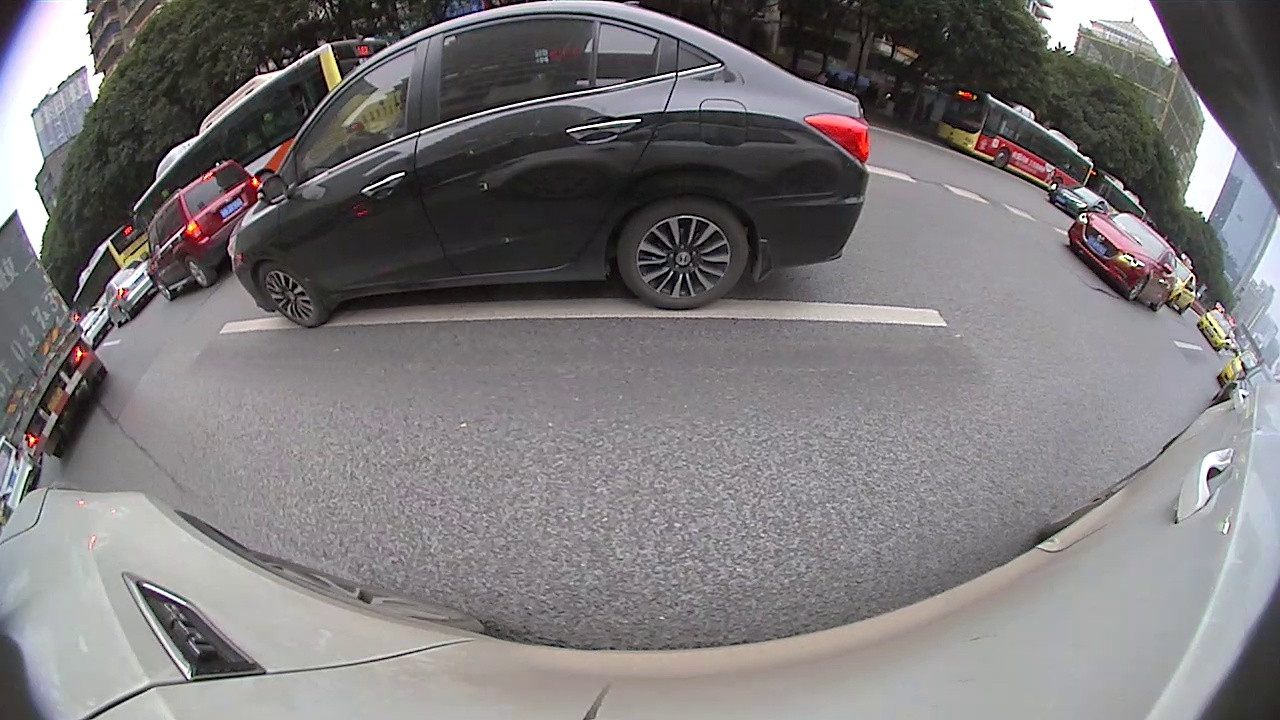bus: (132, 37, 389, 231), (944, 87, 1092, 191), (70, 222, 154, 323), (1088, 159, 1149, 222)
car: (230, 1, 869, 333), (148, 158, 261, 299), (1073, 209, 1179, 311), (97, 267, 166, 324), (0, 443, 38, 519), (1048, 189, 1111, 218), (1172, 259, 1199, 313), (1203, 309, 1233, 353)
front: (262, 263, 328, 325), (155, 278, 178, 300), (1128, 277, 1146, 300), (993, 148, 1010, 168)
rear: (616, 199, 748, 307), (185, 256, 217, 288), (120, 307, 132, 321)
truck: (1, 211, 110, 462)
